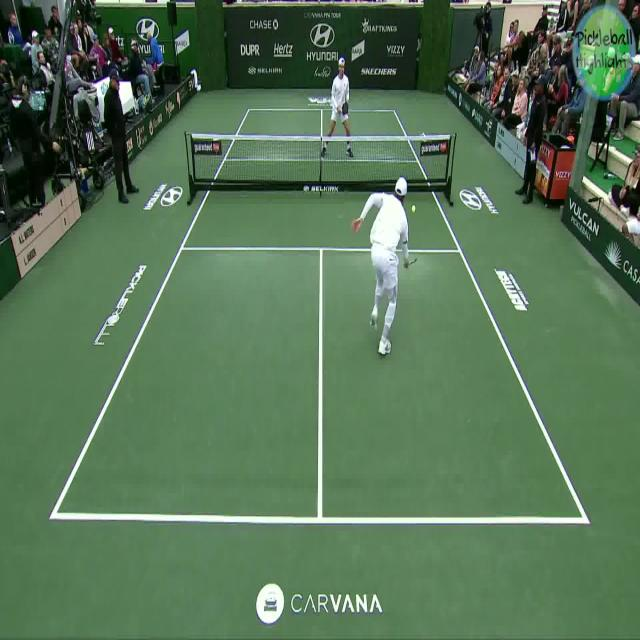Court: (52, 107, 589, 525)
ball: (407, 198, 419, 218)
